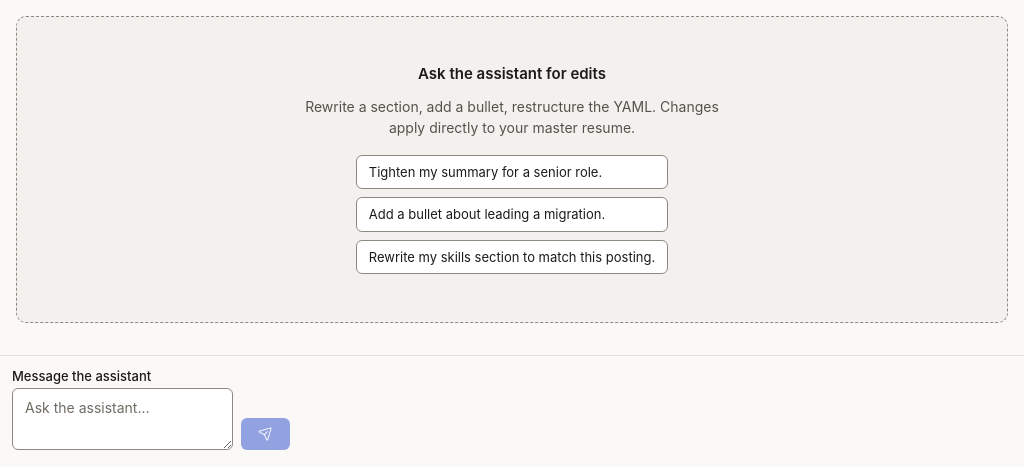
it: loading the transcript › an empty transcript offers suggested first messages
The image size is (1024, 467).
Check: the text "Ask the assistant for edits" is shown, box [418,65,606,84]
Click the button with test id "chat-suggestion" at [512, 172], box [356,155,668,189]
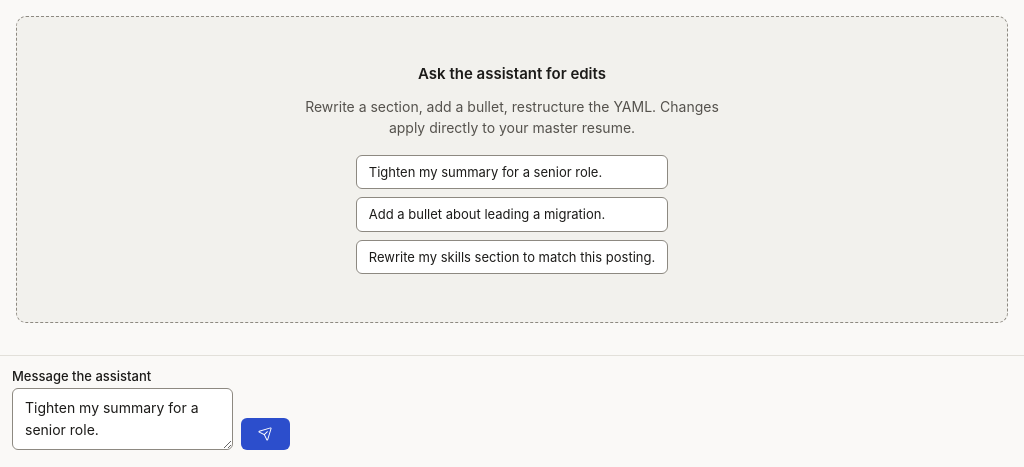
Check: the text box with test id "chat-input" holds "Tighten my summary for a senior role.", box [12,388,233,450]
